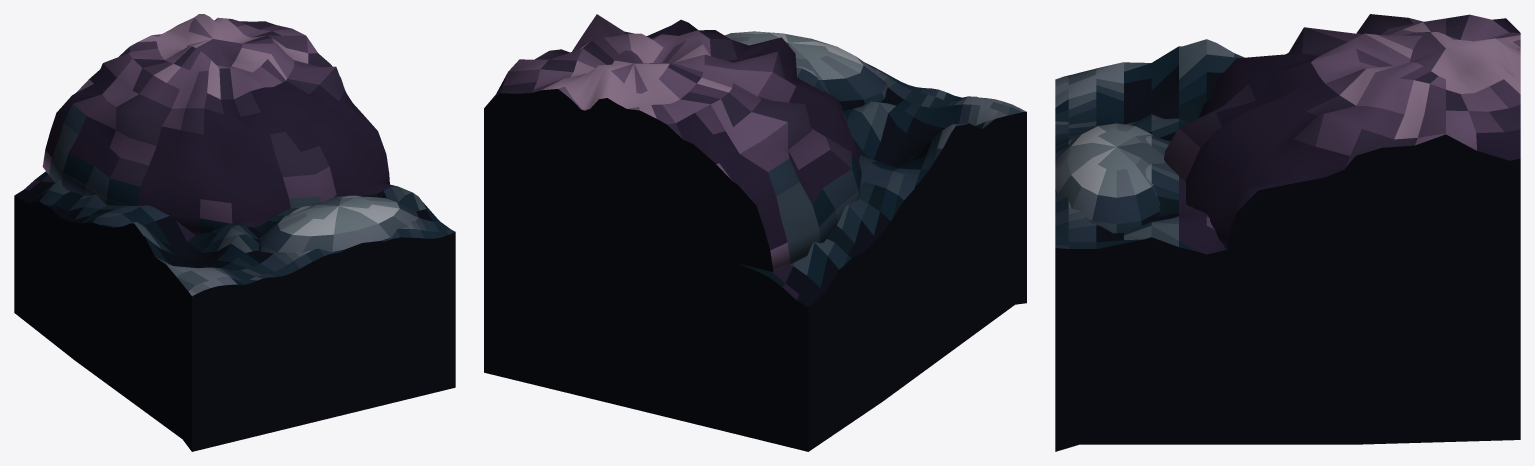
File: newshn-81.glb
3 views of the same model, side by side, from view 1: azimuth 30°, elevation 25°; view 2: azimuth 150°, elevation 25°; view 3: azimuth 270°, elevation 25° (orthographic). The views are drawn at different scales.
Parts seen in each view (by area): view 1: newshn-81; view 2: newshn-81; view 3: newshn-81.
Part boxes in pixels (box(x1,y1,x2,y2)): newshn-81: box(14, 14, 455, 451); newshn-81: box(484, 14, 1026, 451); newshn-81: box(1055, 14, 1520, 451).
Size of the model in its own units: 2 by 1.97 by 2.33.
